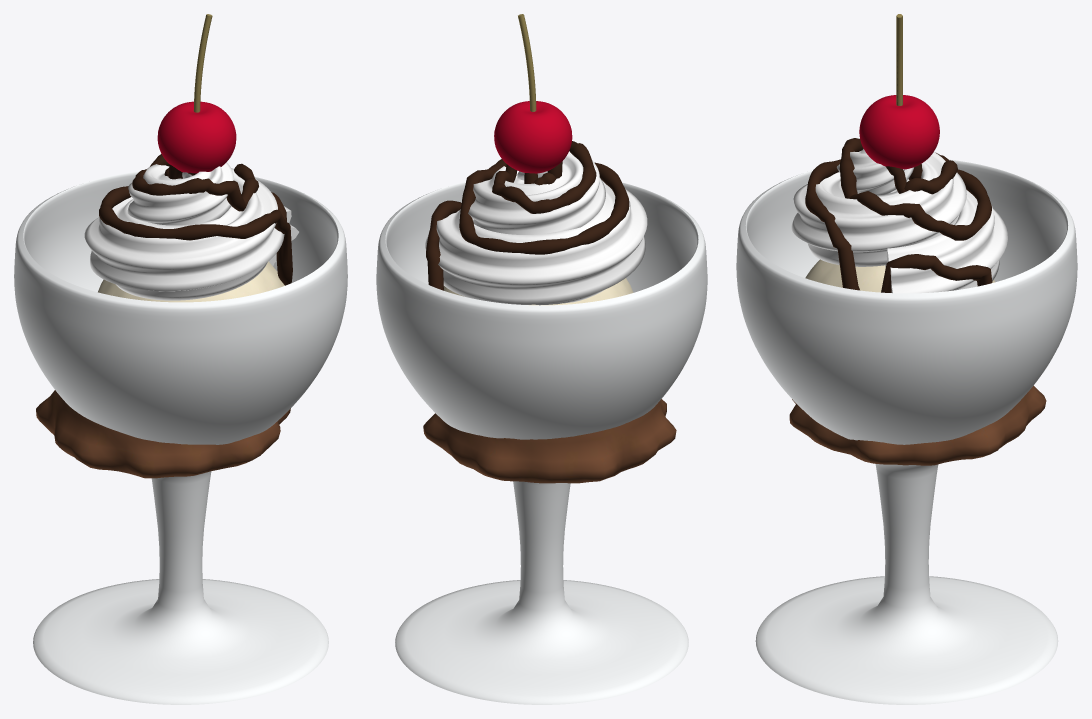
The model's file is sundae.glb.
The picture shows the model from 3 angles, left to right: view 1: azimuth 30°, elevation 25°; view 2: azimuth 150°, elevation 25°; view 3: azimuth 270°, elevation 25°; orthographic projection. The views are drawn at different scales.
Visible parts, largest first — view 1: base, whipped, choc-scoop, choc-syrup, cherry, vanilla-scoop; view 2: base, whipped, choc-scoop, choc-syrup, cherry, vanilla-scoop; view 3: base, whipped, choc-syrup, choc-scoop, cherry, vanilla-scoop.
Part boxes in pixels (x1,y1,x2,y2): base: (14, 171, 347, 704); whipped: (84, 162, 298, 300); choc-scoop: (36, 390, 290, 478); choc-syrup: (99, 154, 292, 285); cherry: (157, 14, 236, 173); vanilla-scoop: (98, 261, 284, 302); base: (376, 181, 707, 704); whipped: (425, 151, 647, 305); choc-scoop: (423, 399, 676, 483); choc-syrup: (426, 141, 629, 290); cherry: (494, 14, 572, 173); vanilla-scoop: (443, 278, 633, 305); base: (736, 159, 1077, 704); whipped: (791, 149, 1007, 293); choc-syrup: (805, 138, 992, 292); choc-scoop: (789, 385, 1046, 465); cherry: (859, 14, 939, 169); vanilla-scoop: (805, 259, 995, 292).
Bounding box in the file's own units: 0.093 × 0.1932 × 0.093.
Materials: 7 (2 with a texture image).
